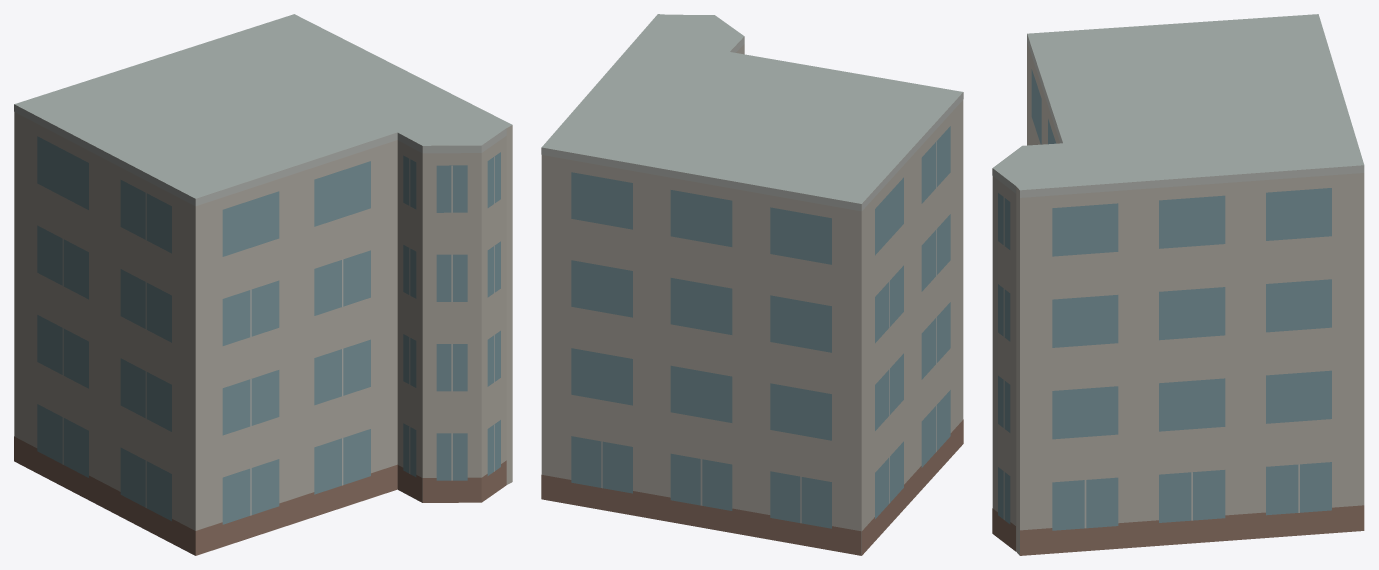
Rendered from survey-upis-32530309.glb.
3 views of the same model, side by side, from view 1: azimuth 30°, elevation 25°; view 2: azimuth 150°, elevation 25°; view 3: azimuth 270°, elevation 25° (orthographic). The views are drawn at different scales.
Parts seen in each view (by area): view 1: survey-upis-32530309.tmp; view 2: survey-upis-32530309.tmp; view 3: survey-upis-32530309.tmp.
Boxes of the visible parts, left/top/right/bottom form: survey-upis-32530309.tmp: left=14, top=14, right=512, bottom=555; survey-upis-32530309.tmp: left=541, top=14, right=963, bottom=555; survey-upis-32530309.tmp: left=992, top=14, right=1364, bottom=555.
Bounding box in the file's own units: 12 × 11.6 × 10.7.
